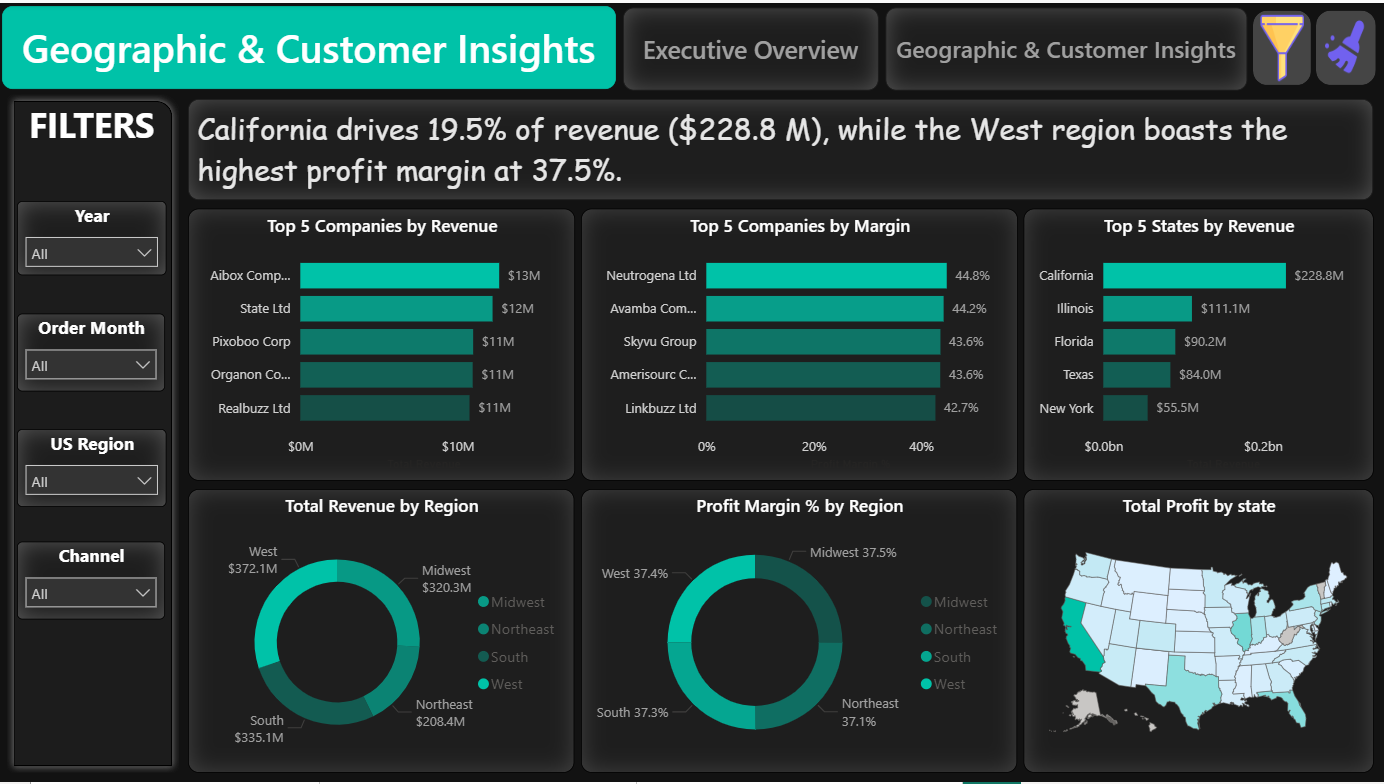

The dashboard page shown, as its layout file describes it:
{"tool":"powerbi","page":{"name":"Geographic & Customer Insights","canvas":[1280,720],"ordinal":2},"visuals":[{"type":"barChart","title":"Top 5 States by Revenue","fields":{"Category":["Sales_data.state_name"],"Y":["Measures_.Total Revenue"]},"box":[945.4,190,323.1,251.2],"z":0},{"type":"actionButton","box":[37,215,49,105],"z":0,"group":"g1"},{"type":"actionButton","box":[36.7,323.3,49,105],"z":1000,"group":"g1"},{"type":"donutChart","title":"Total Revenue by Region","fields":{"Category":["Sales_data.us_region"],"Y":["Measures_.Total Revenue"]},"box":[174.6,448.9,356.9,262],"z":1000},{"type":"barChart","title":"Top 5 Companies by Margin","fields":{"Category":["Sales_data.customer_name"],"Y":["Measures_.Profit Margin %"]},"box":[537,190,403.4,251.2],"z":2000},{"type":"donutChart","title":"Profit Margin % by Region","fields":{"Category":["Sales_data.us_region"],"Y":["Measures_.Profit Margin %"]},"box":[537.7,448.9,402.9,262],"z":3000},{"type":"barChart","title":"Top 5 Companies by Revenue","fields":{"Category":["Sales_data.customer_name"],"Y":["Measures_.Total Revenue"]},"box":[174.6,190,357.6,251.2],"z":4000},{"type":"actionButton","box":[1214.9,7.7,55.1,68.9],"z":6000,"group":"g3"},{"type":"group","id":"g1","title":"top 5 button","box":[36.7,215,48.3,213.3],"z":6000},{"type":"actionButton","box":[1156.6,7.7,53.6,68.9],"z":7000,"group":"g3"},{"type":"shapeMap","fields":{"Category":["Sales_data.state"],"Value":["Measures_.Total Profit"]},"box":[945.2,448.9,323.2,262],"z":7000},{"type":"actionButton","box":[575,4.5,235.9,76.6],"z":10000,"group":"g3"},{"type":"textbox","title":"Top Text","box":[174.6,88.9,1093.8,93.4],"z":10000},{"type":"actionButton","box":[2.1,3,566.8,76.6],"z":11000,"group":"g3"},{"type":"shape","box":[6.1,82.7,162.4,628.1],"z":11000},{"type":"actionButton","box":[817.1,4.5,334,76.6],"z":12000,"group":"g3"},{"type":"group","id":"g2","title":"Group 1","box":[16.9,182.3,137.9,386],"z":12000},{"type":"textbox","box":[16.9,84.3,137.9,72],"z":13000},{"type":"group","id":"g3","title":"Group 2","box":[2.1,3,1267.9,78.1],"z":14000},{"type":"slicer","title":"Year","fields":{"Values":["Sales_data.year"]},"box":[16.9,182.3,137.9,68.9],"z":21500,"group":"g2"},{"type":"slicer","title":"Channel","fields":{"Values":["Sales_data.channel"]},"box":[16.9,496.3,136.4,72],"z":22000,"group":"g2"},{"type":"slicer","title":"Order Month","fields":{"Values":["Sales_data.order_month_name"]},"box":[16.9,286.5,136.4,72],"z":22250,"group":"g2"},{"type":"slicer","title":"US Region","fields":{"Values":["Sales_data.us_region"]},"box":[16.9,392.2,137.9,72],"z":22500,"group":"g2"}]}

Visuals, with their boxes in screenshot pixels (x1, y1, x2, y2), scaled from the page's 1280x720 canvas onto the 1384x784 screenshot:
"Top 5 States by Revenue" barChart: <bbox>1022, 207, 1372, 480</bbox>
actionButton: <bbox>40, 234, 93, 348</bbox>
actionButton: <bbox>40, 352, 93, 466</bbox>
"Total Revenue by Region" donutChart: <bbox>189, 489, 575, 774</bbox>
"Top 5 Companies by Margin" barChart: <bbox>581, 207, 1017, 480</bbox>
"Profit Margin % by Region" donutChart: <bbox>581, 489, 1017, 774</bbox>
"Top 5 Companies by Revenue" barChart: <bbox>189, 207, 575, 480</bbox>
actionButton: <bbox>1314, 8, 1373, 83</bbox>
"top 5 button" group: <bbox>40, 234, 92, 466</bbox>
actionButton: <bbox>1251, 8, 1309, 83</bbox>
shapeMap - Sales_data.state x Measures_.Total Profit: <bbox>1022, 489, 1371, 774</bbox>
actionButton: <bbox>622, 5, 877, 88</bbox>
"Top Text" textbox: <bbox>189, 97, 1371, 199</bbox>
actionButton: <bbox>2, 3, 615, 87</bbox>
shape: <bbox>7, 90, 182, 774</bbox>
actionButton: <bbox>883, 5, 1245, 88</bbox>
"Group 1" group: <bbox>18, 199, 167, 619</bbox>
textbox: <bbox>18, 92, 167, 170</bbox>
"Group 2" group: <bbox>2, 3, 1373, 88</bbox>
"Year" slicer: <bbox>18, 199, 167, 274</bbox>
"Channel" slicer: <bbox>18, 540, 166, 619</bbox>
"Order Month" slicer: <bbox>18, 312, 166, 390</bbox>
"US Region" slicer: <bbox>18, 427, 167, 505</bbox>
